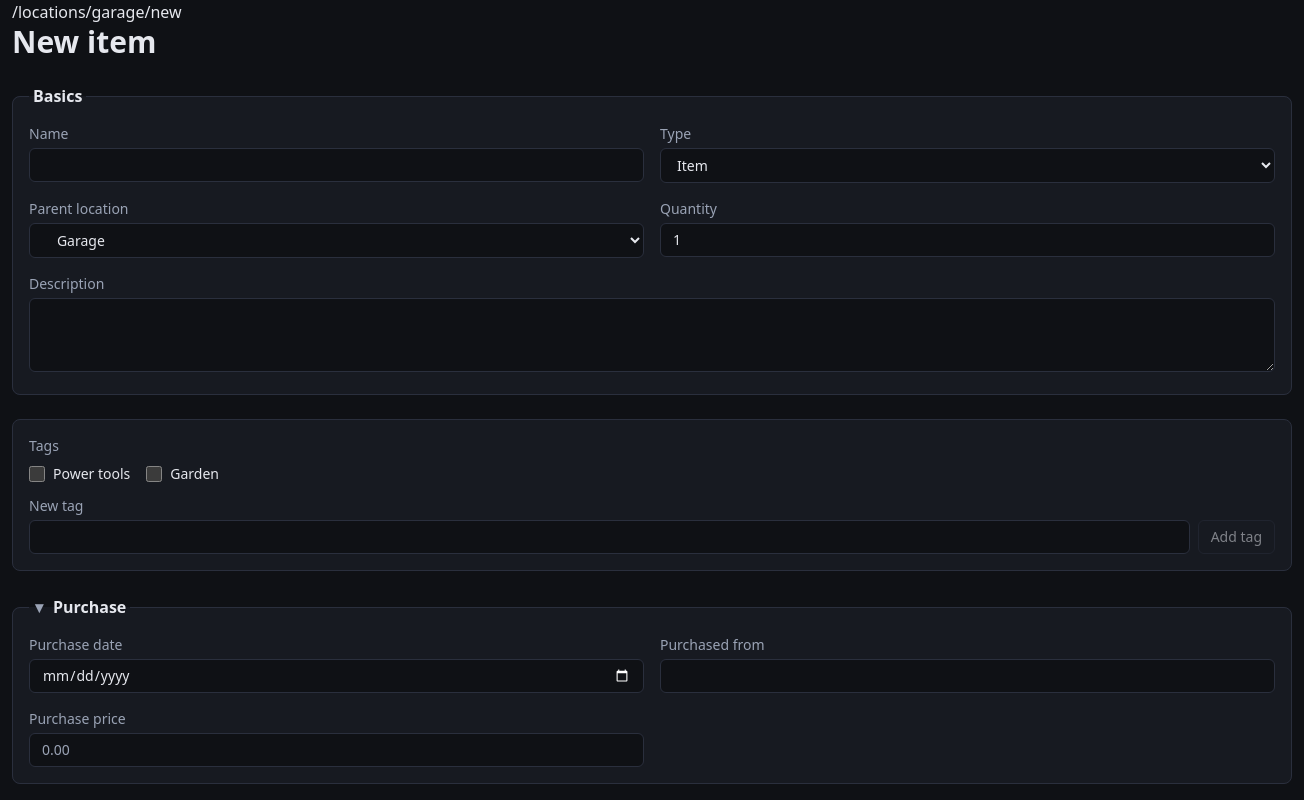
Scenario: NewEntityPage › preselects the built-in Item type when the URL names no type
Check: the dropdown labelled "Type" shows "Item", box [660, 148, 1275, 183]
In the field labelled "Name": (336,165) [29, 148, 644, 182], type "Saw"
(page scrolled)
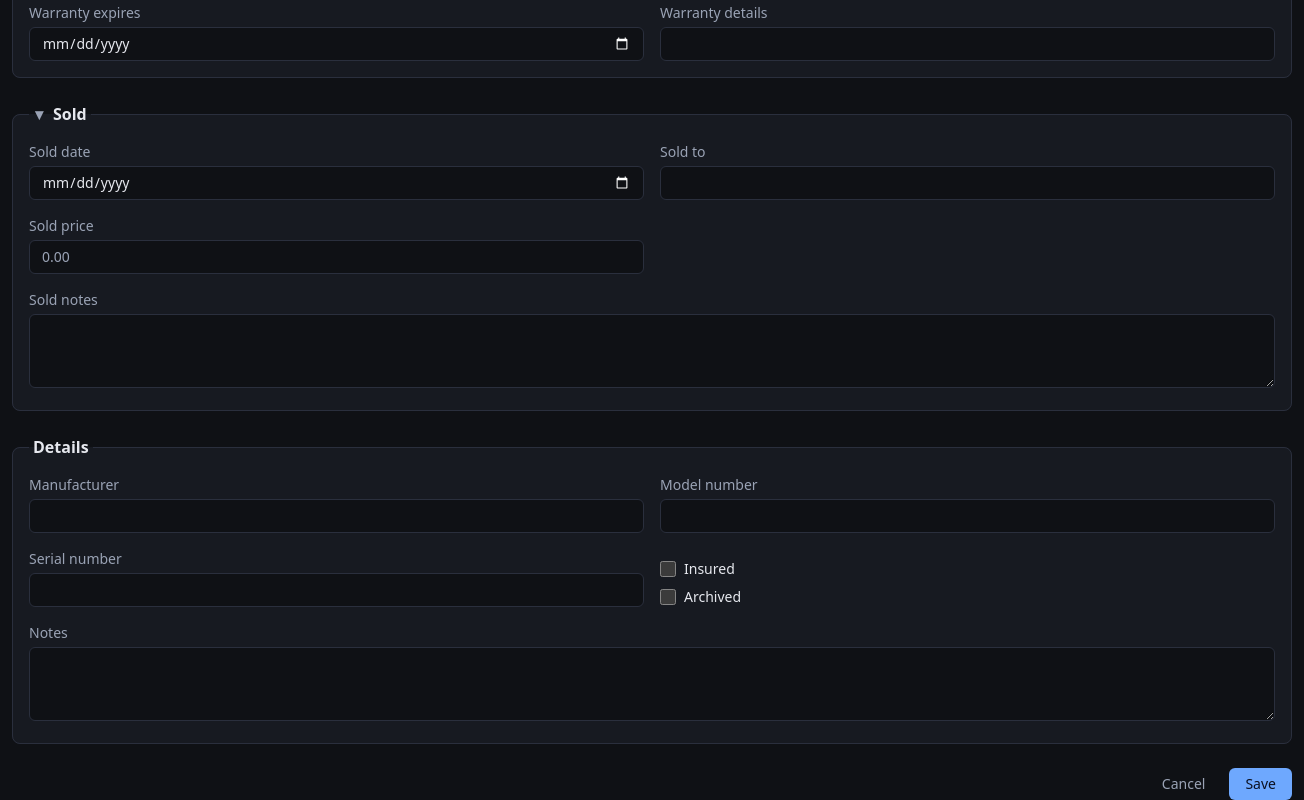
Check: the button "Save" is enabled, box [1229, 768, 1292, 799]
